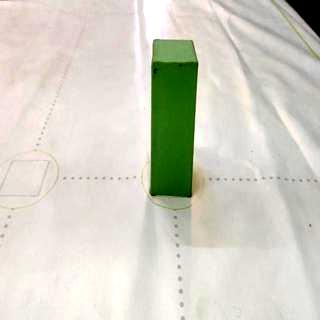greenbox: (150, 34, 200, 198)
